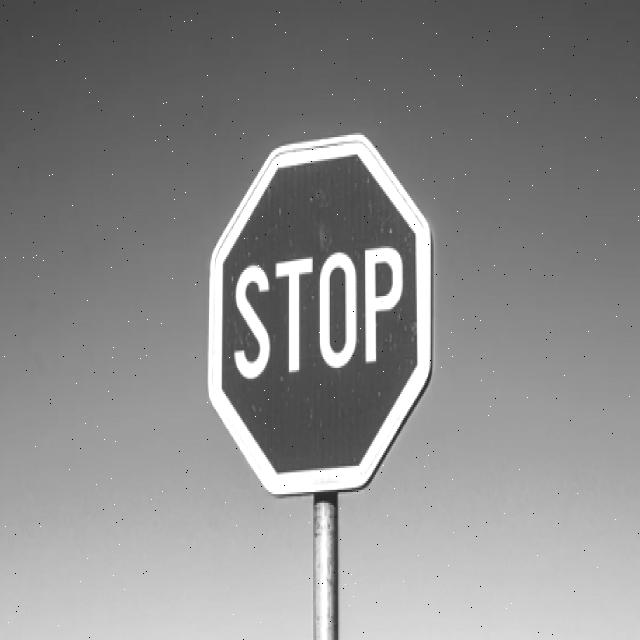Stop-signs: (209, 138, 433, 491)
